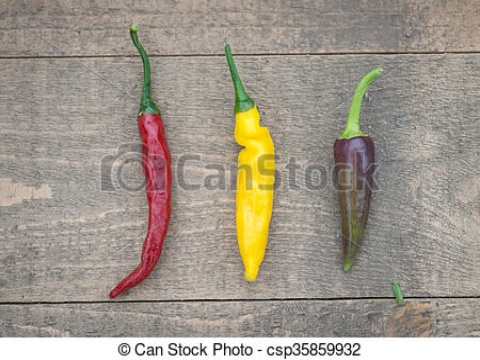Chilli: (100, 14, 183, 304), (213, 30, 289, 293), (328, 59, 402, 279)
